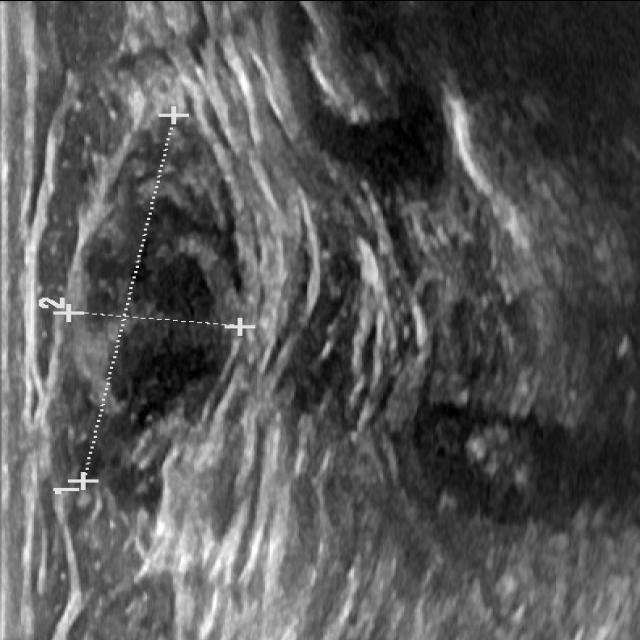Benign: (48, 162, 240, 468)
